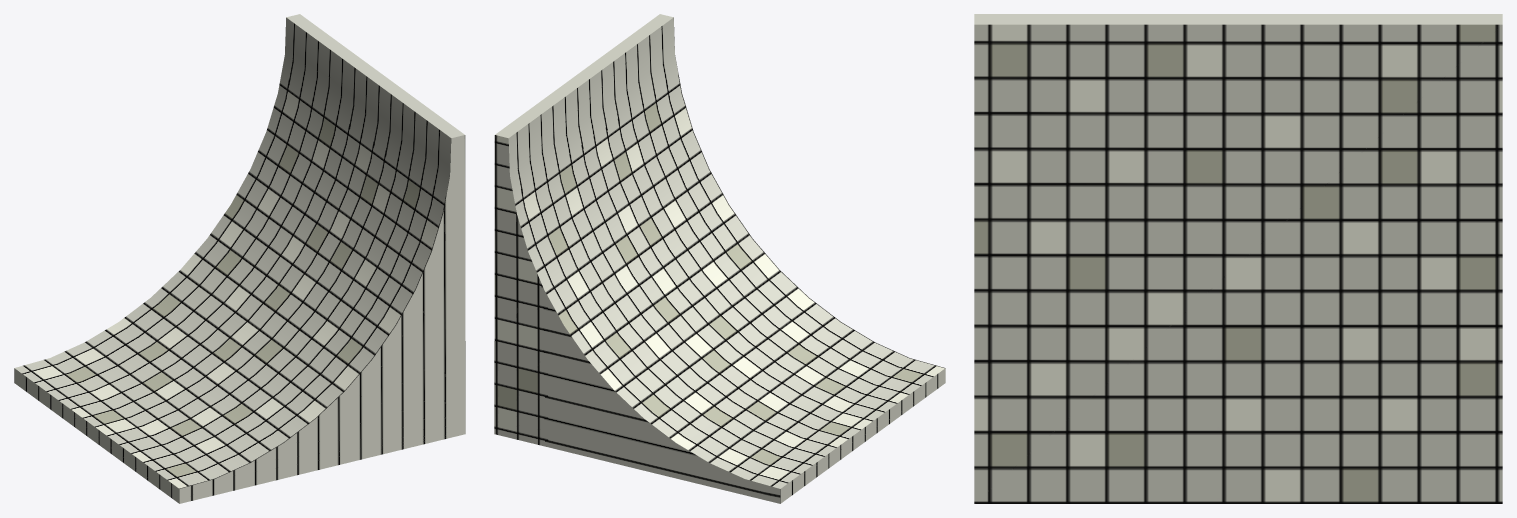
File: TileRampCurved.fbx
The picture shows the model from 3 angles, left to right: view 1: azimuth 30°, elevation 25°; view 2: azimuth 150°, elevation 25°; view 3: azimuth 270°, elevation 25°; orthographic projection. The views are drawn at different scales.
Visible parts, largest first — view 1: TileRamp; view 2: TileRamp; view 3: TileRamp.
Boxes of the visible parts, x1,y1,x2,y2 form: TileRamp: (14,14,465,503); TileRamp: (494,14,945,503); TileRamp: (974,14,1502,503).
Size of the model in its own units: 1000 by 1000 by 1000.
